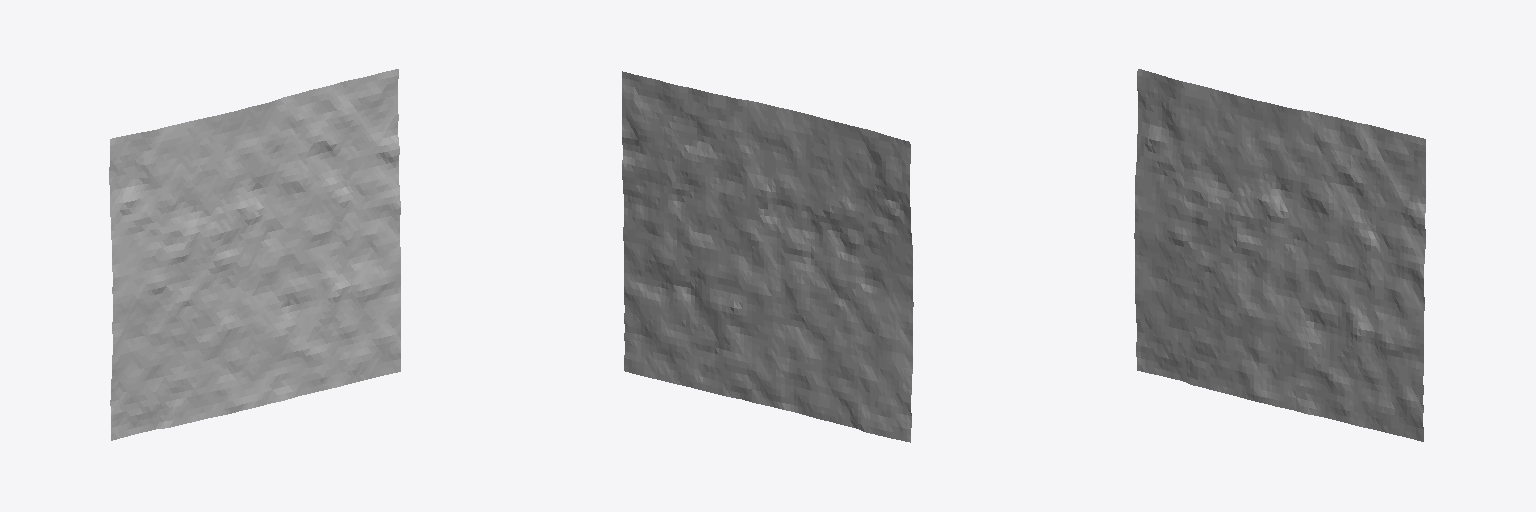
File: terrain.obj
3 renders of one model, left to right at view 1: azimuth 30°, elevation 25°; view 2: azimuth 150°, elevation 25°; view 3: azimuth 330°, elevation 25°, orthographic.
Parts seen in each view (by area): view 1: Terrain; view 2: Terrain; view 3: Terrain.
Part boxes in pixels (bbox=[...]): Terrain: bbox=[109, 69, 400, 440]; Terrain: bbox=[622, 71, 913, 442]; Terrain: bbox=[1134, 69, 1425, 441].
Size of the model in its own units: 1425 by 1422 by 41.